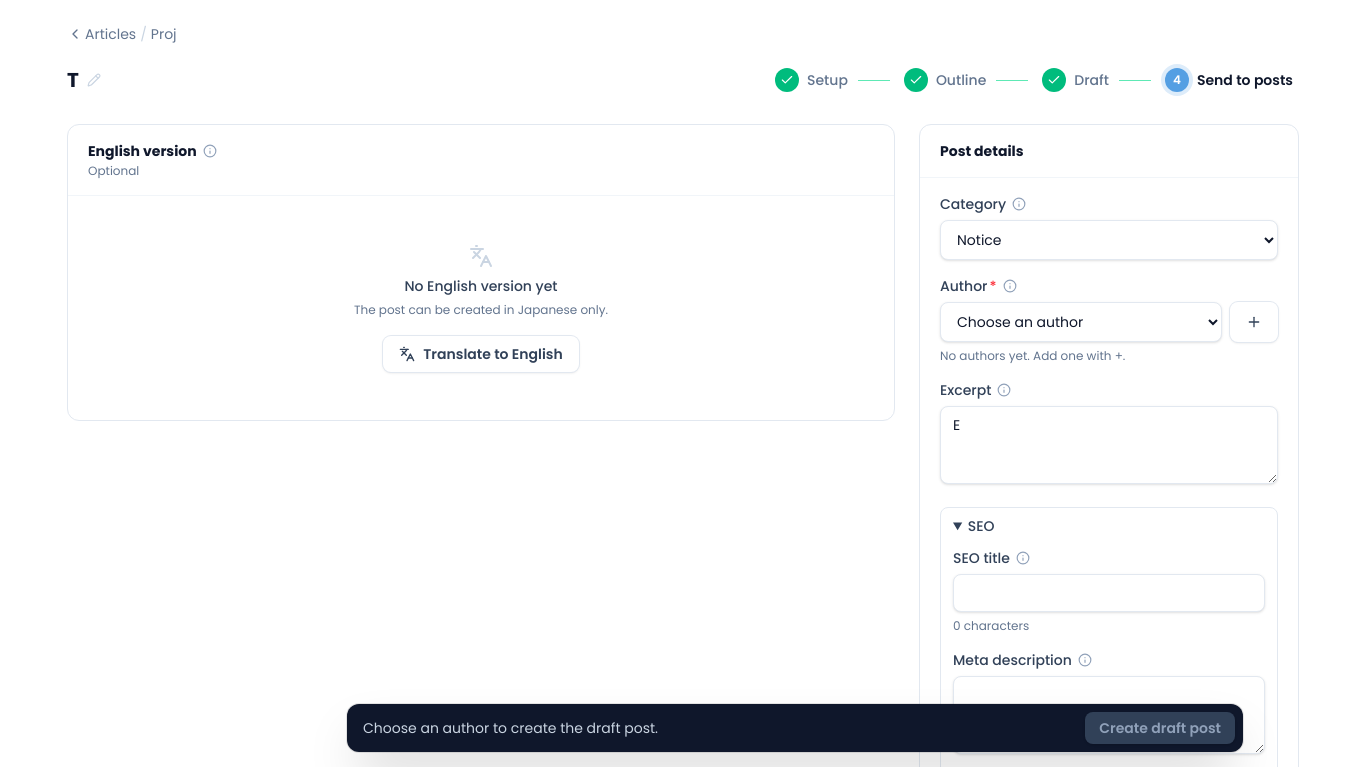
Test: PieceWorkspace › needs an author before the draft post, and can add one
Expected: the button "Create draft post" is disabled, [1085, 712, 1235, 744]
Expected: the text "Choose an author to create the draft post." is shown, [363, 718, 658, 738]
Click the button named "Add author" at (1254, 322), box [1230, 302, 1278, 342]
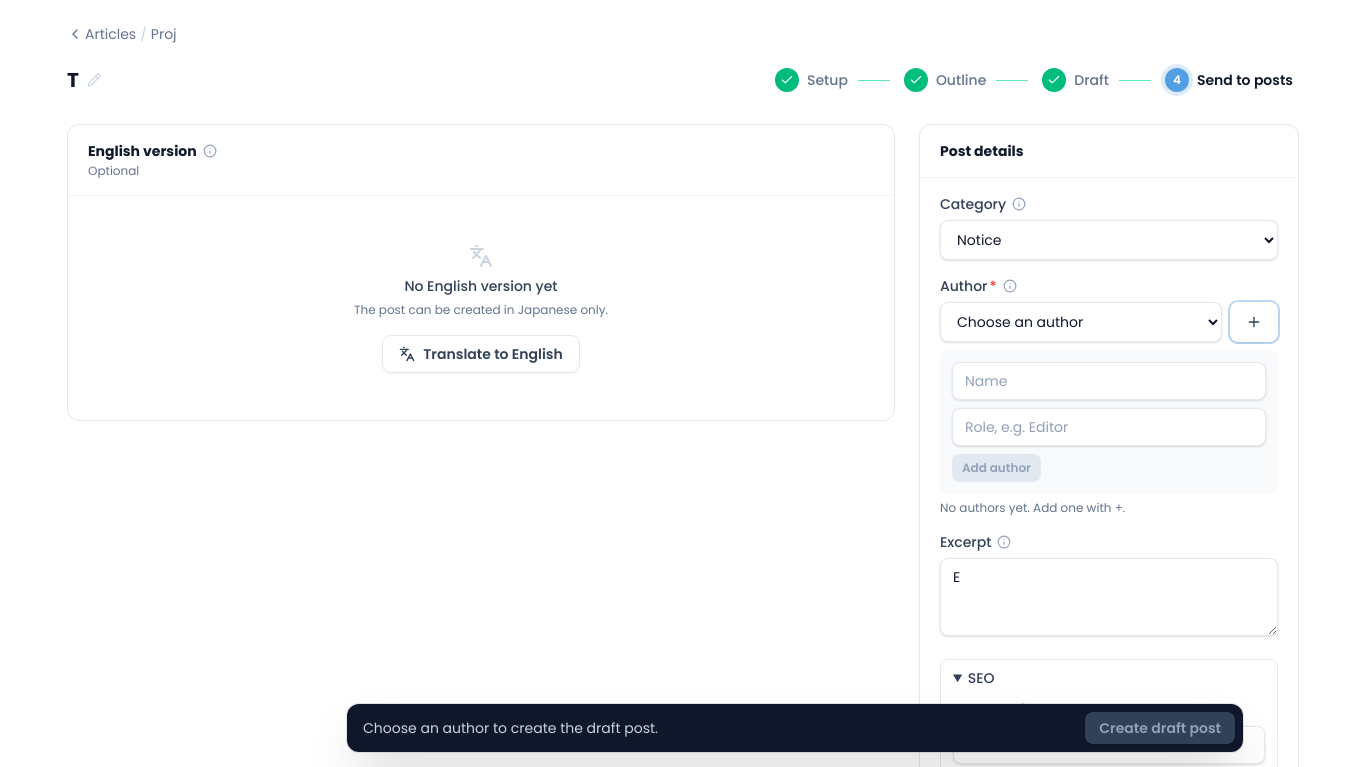
Type "山田" into the field labelled "Name" at (1109, 381), box [952, 362, 1266, 400]
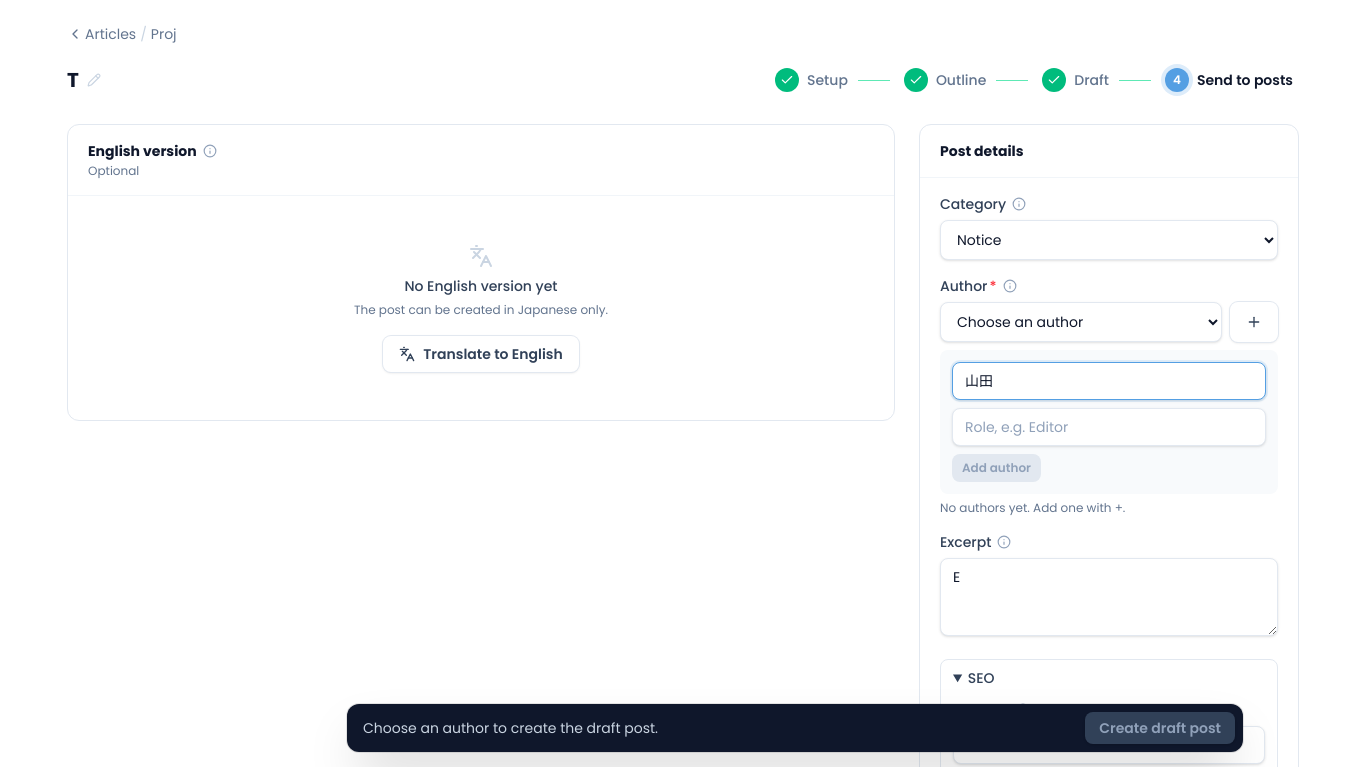
Type "編集部" into the field labelled "Role, e.g. Editor" at (1109, 427), box [952, 408, 1266, 446]
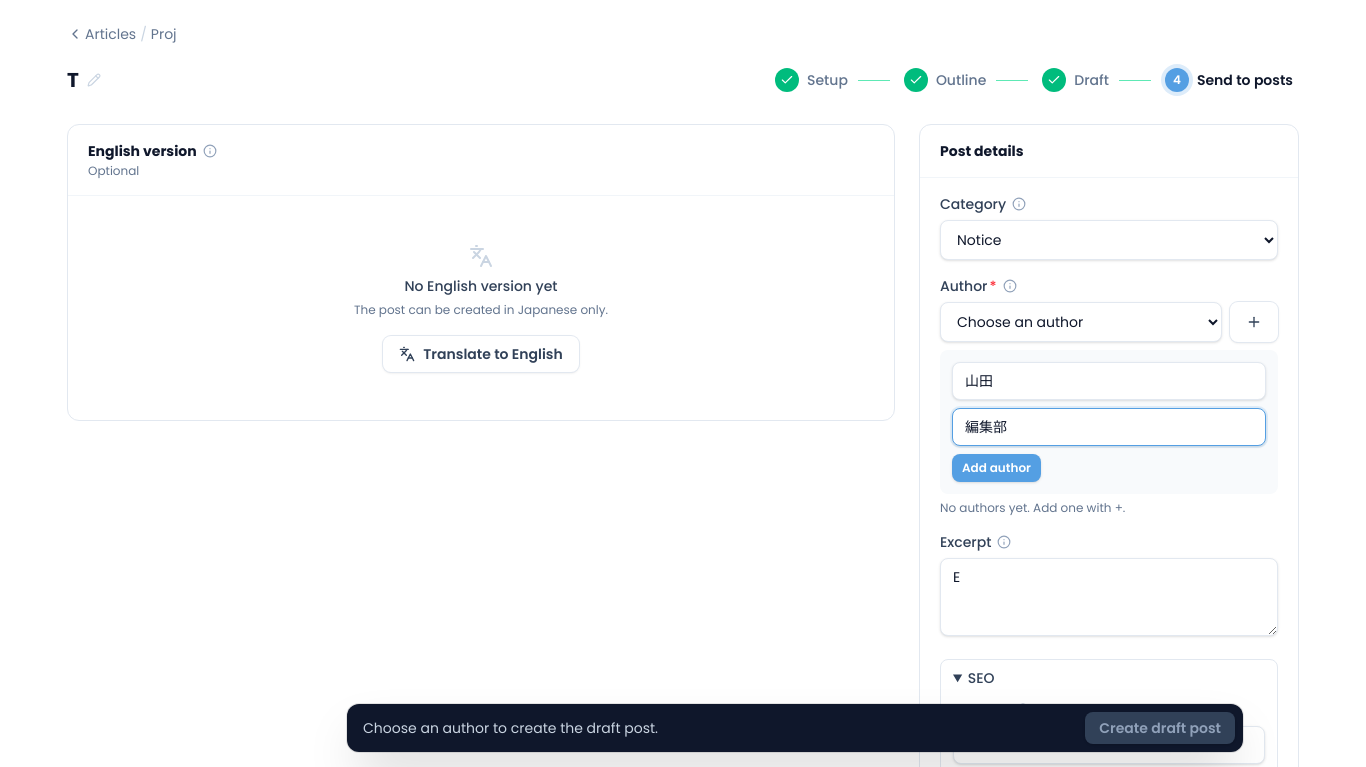
Click the button "Add author" at (996, 468), box [952, 454, 1041, 482]
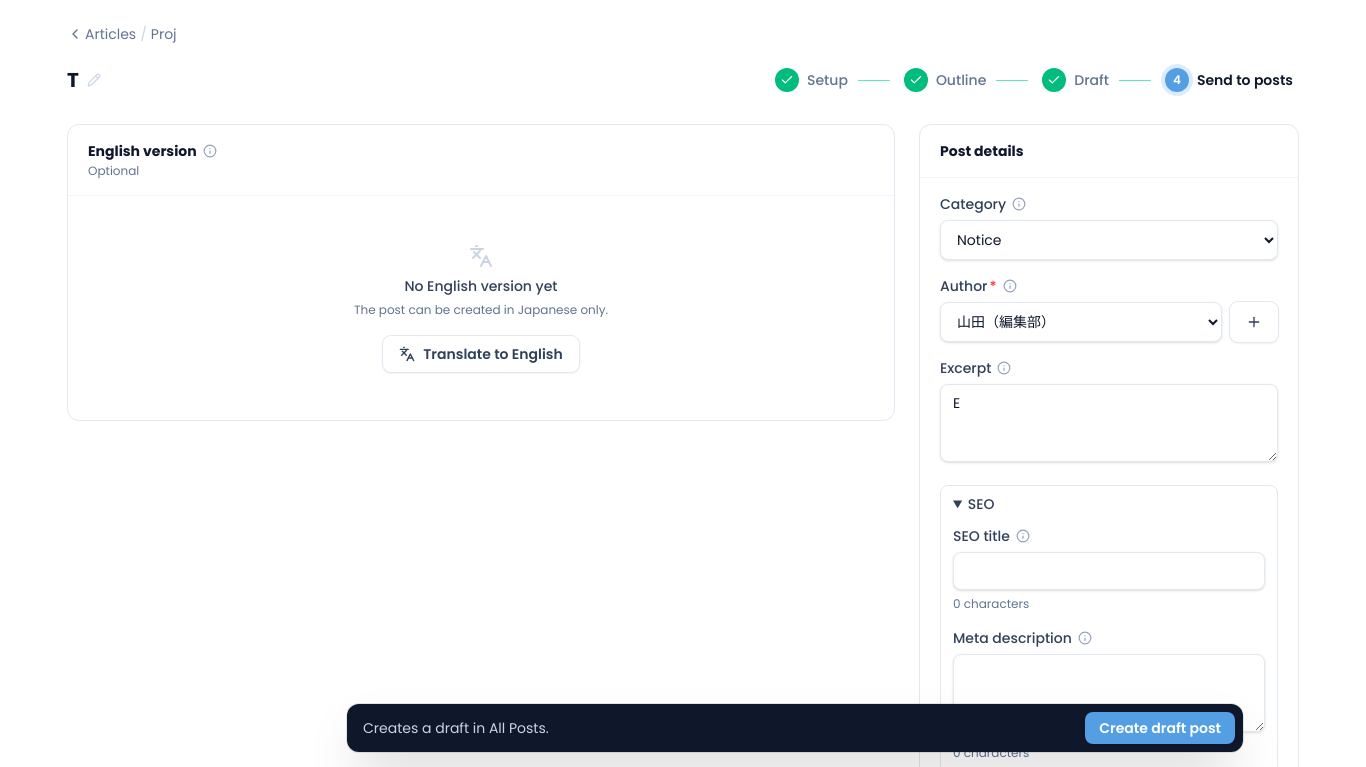
Result: the button "Create draft post" is enabled at [1085, 712, 1235, 744]
